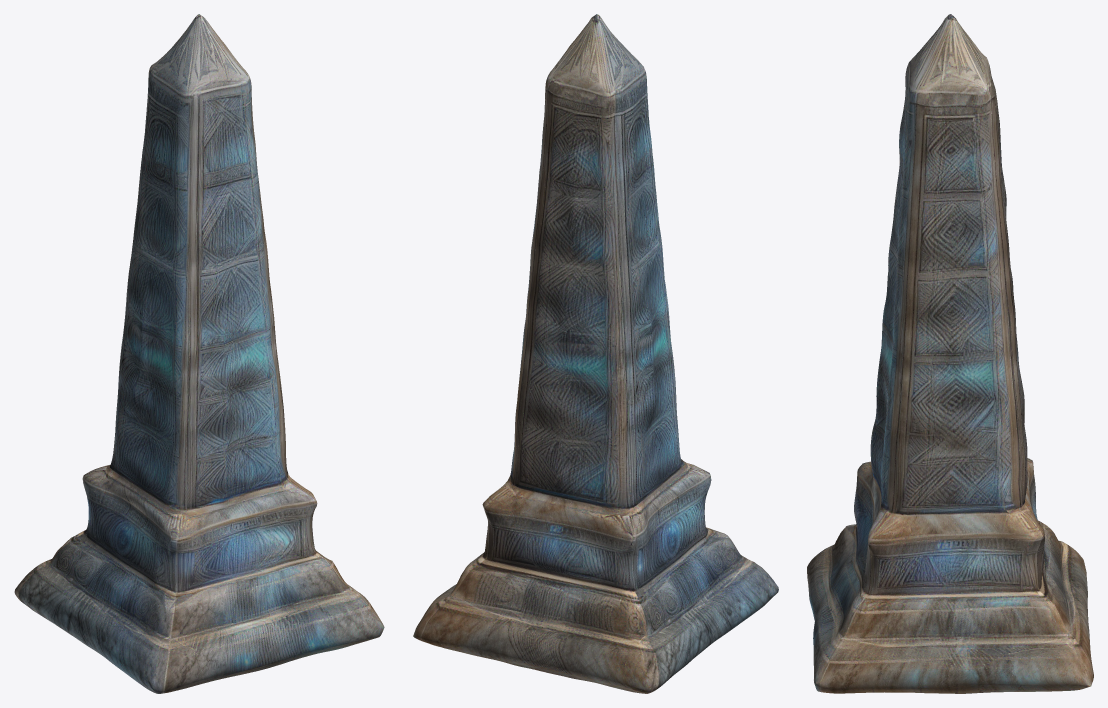
3 renders of one model, left to right at view 1: azimuth 30°, elevation 25°; view 2: azimuth 150°, elevation 25°; view 3: azimuth 270°, elevation 25°, orthographic. The views are drawn at different scales.
Parts seen in each view (by area): view 1: Mesh_0; view 2: Mesh_0; view 3: Mesh_0.
Part boxes in pixels (<box>): Mesh_0: <box>14,14,384,693</box>; Mesh_0: <box>413,14,778,693</box>; Mesh_0: <box>807,14,1093,693</box>.
Bounding box in the file's own units: 47.38 × 120 × 47.22.
Materials: 1 (1 with a texture image).
